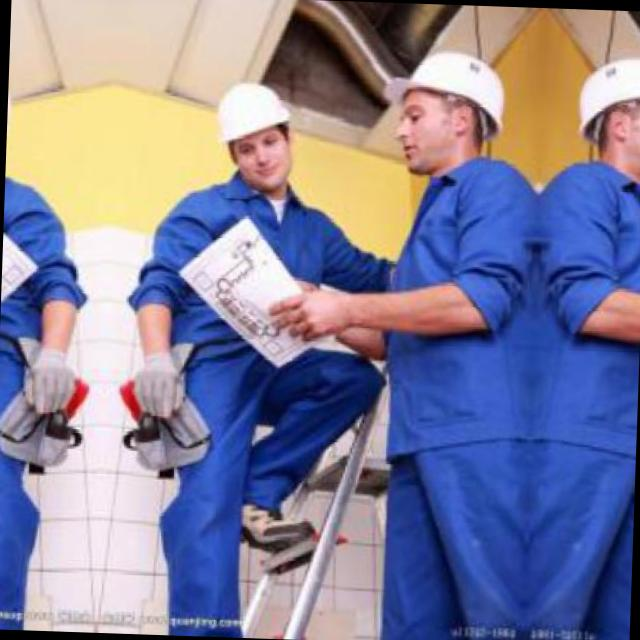helmet: (376, 26, 520, 183), (560, 31, 640, 188), (202, 76, 300, 192)
